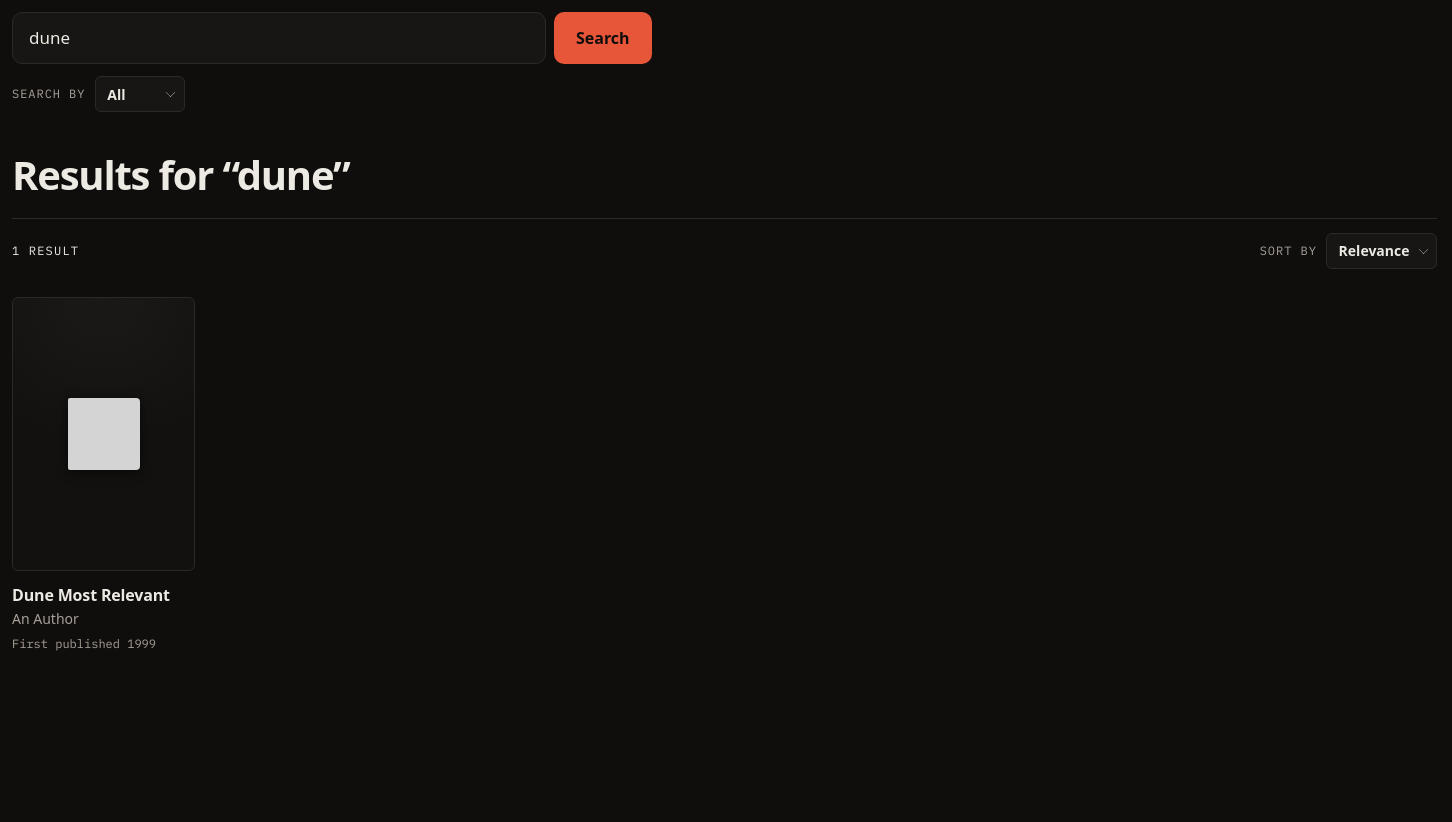
it: SearchPage - sort reaches the request › re-requests with the new sort when the select changes, and re-renders
Check: the heading "Dune Most Relevant" is shown, box [12,585,195,605]
Select "Rating" in the dropdown labelled "Sort by" at (1382, 251), box [1326,233,1437,269]
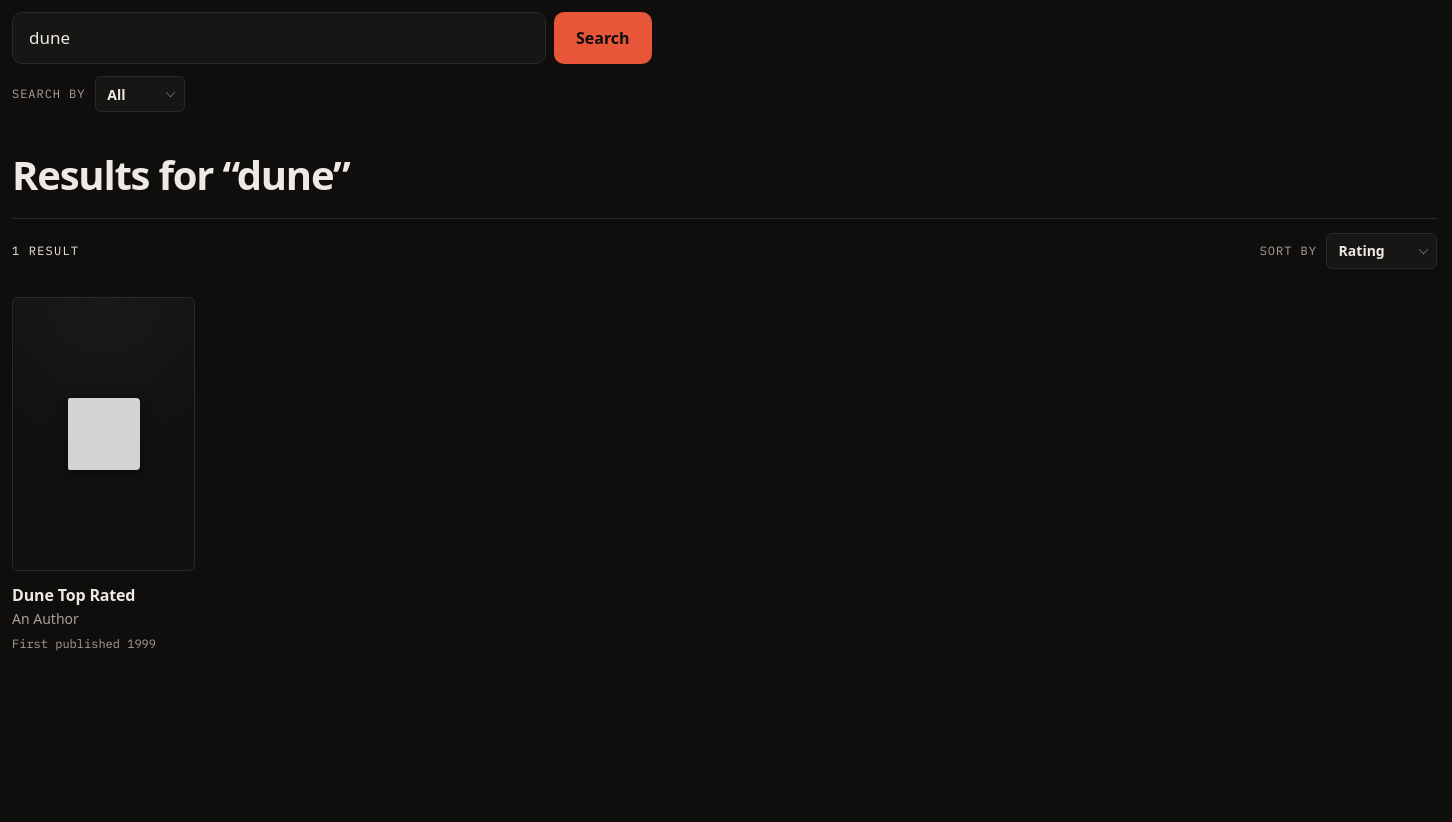
Check: the heading "Dune Top Rated" is shown, box [12,584,135,606]
Check: the link "Dune Most Relevant" is gone
